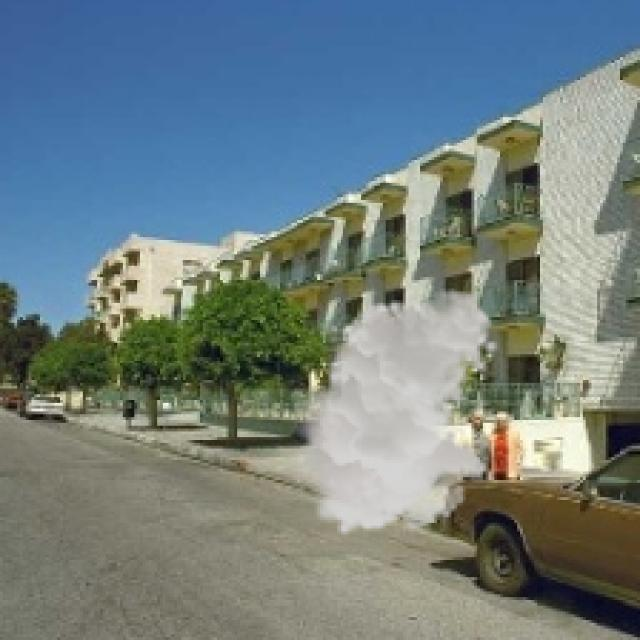Smoke: (286, 288, 500, 538)
